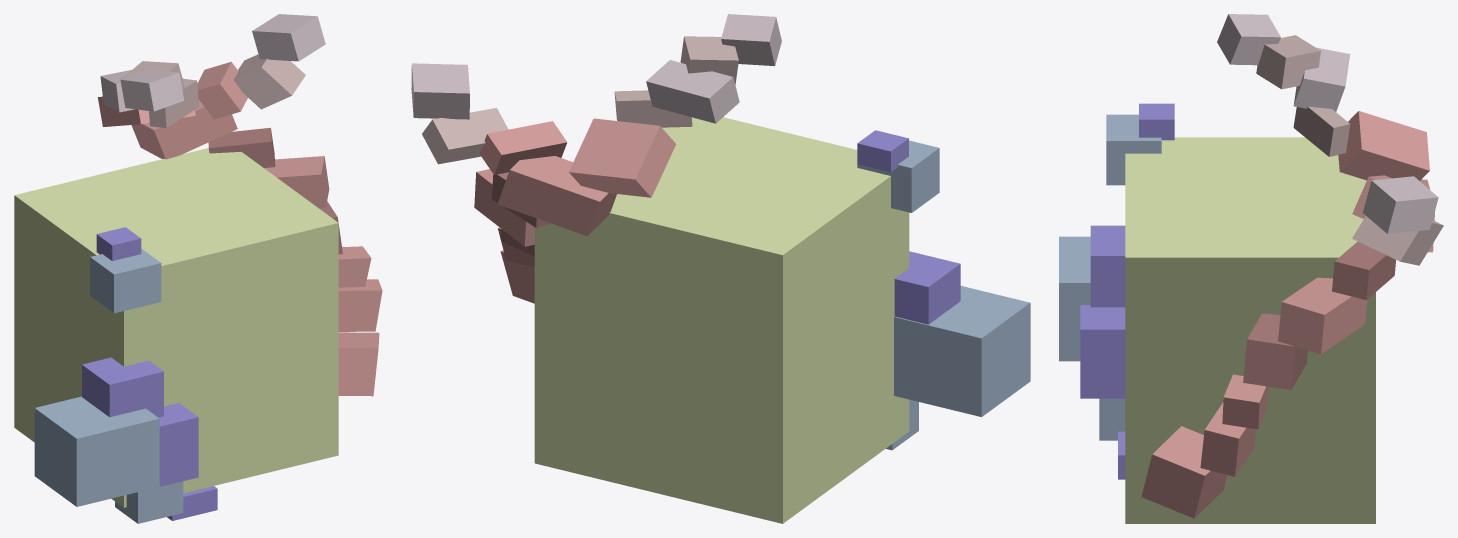
File: 04_ 22 updated sky env.fbx
3 renders of one model, left to right at view 1: azimuth 30°, elevation 25°; view 2: azimuth 150°, elevation 25°; view 3: azimuth 270°, elevation 25°, orthographic. The views are drawn at different scales.
Parts seen in each view (by area): view 1: polySurface1, polySurface3, polySurface4, polySurface7, polySurface2, polySurface15, polySurface18, polySurface17, polySurface13, polySurface23, polySurface12, polySurface16 (+10 smaller); view 2: polySurface1, polySurface3, polySurface19, polySurface15, polySurface21, polySurface4, polySurface18, polySurface17, polySurface16, polySurface7, polySurface23, polySurface22 (+4 smaller); view 3: polySurface1, polySurface19, polySurface13, polySurface12, polySurface2, polySurface3, polySurface18, polySurface11, polySurface4, polySurface14, polySurface9, polySurface23 (+8 smaller).
Boxes of the visible parts, x1,y1,x2,y2 form: polySurface1: (14,148,338,507); polySurface3: (34,396,159,506); polySurface4: (82,357,163,417); polySurface7: (90,248,161,313); polySurface2: (154,403,198,488); polySurface15: (131,99,237,159); polySurface18: (252,14,325,61); polySurface17: (233,54,305,109); polySurface13: (338,332,379,396); polySurface23: (120,69,184,111); polySurface12: (264,156,329,208); polySurface16: (197,61,247,119); polySurface1: (534,117,909,523); polySurface3: (894,286,1030,416); polySurface19: (569,118,676,197); polySurface15: (497,156,616,236); polySurface21: (646,60,739,123); polySurface4: (894,251,960,324); polySurface18: (411,63,469,119); polySurface17: (422,108,508,164); polySurface16: (479,121,567,174); polySurface7: (857,140,939,212); polySurface23: (721,14,781,65); polySurface22: (680,36,738,84); polySurface1: (1125,137,1375,523); polySurface19: (1338,111,1429,180); polySurface13: (1141,426,1227,518); polySurface12: (1278,277,1367,354); polySurface2: (1080,305,1125,398); polySurface3: (1059,236,1090,361); polySurface18: (1363,176,1438,233); polySurface11: (1243,313,1307,389); polySurface4: (1090,225,1125,307); polySurface14: (1332,241,1395,300); polySurface9: (1200,402,1255,476); polySurface23: (1217,14,1280,65).
Bounding box in the file's own units: 20.34 × 19.64 × 15.09.
